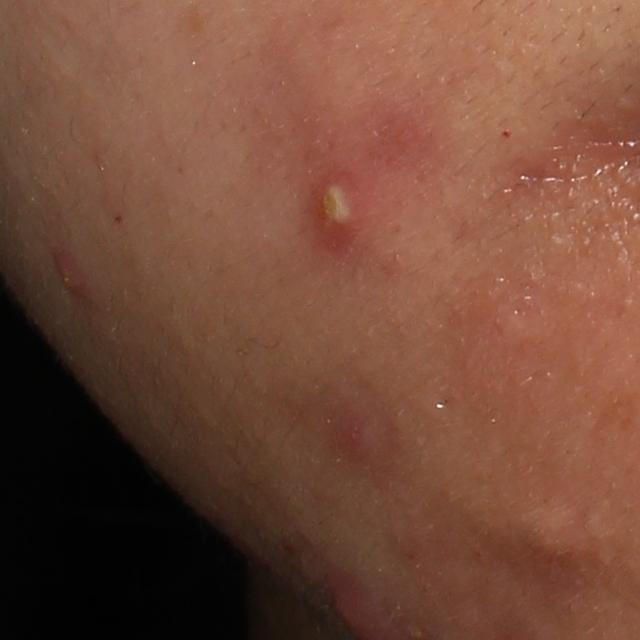hypertrophic_scar: (511, 504, 585, 572)
papule: (326, 411, 379, 458), (54, 253, 91, 298)
pustule: (310, 172, 359, 242)
